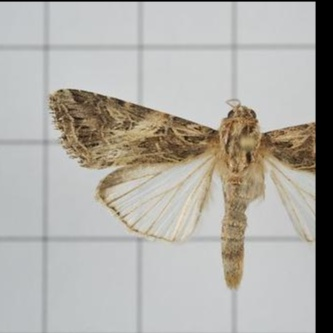Spodoptera litura: (45, 87, 314, 290)
